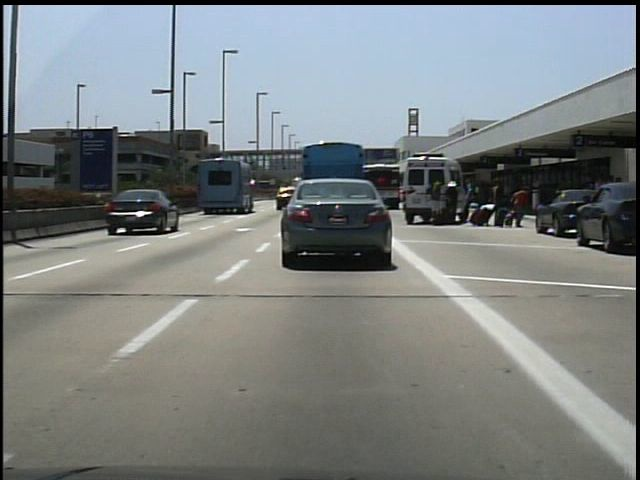person: (443, 175, 466, 227), (483, 178, 505, 228), (509, 180, 531, 230), (425, 172, 446, 224)
